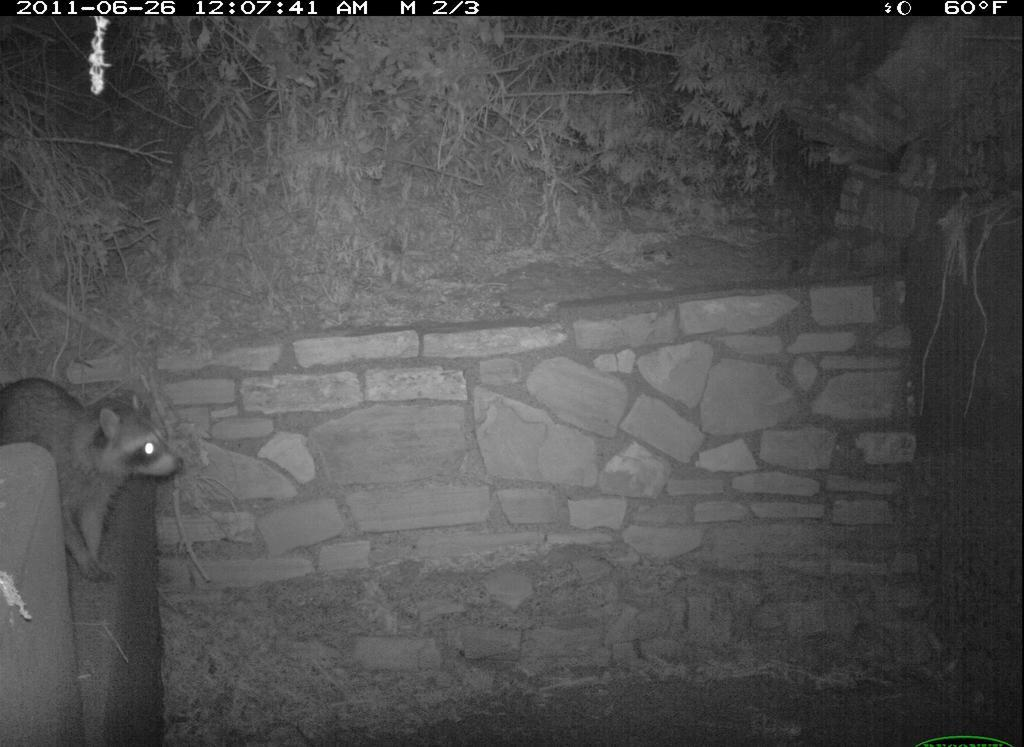raccoon: (6, 359, 186, 597)
